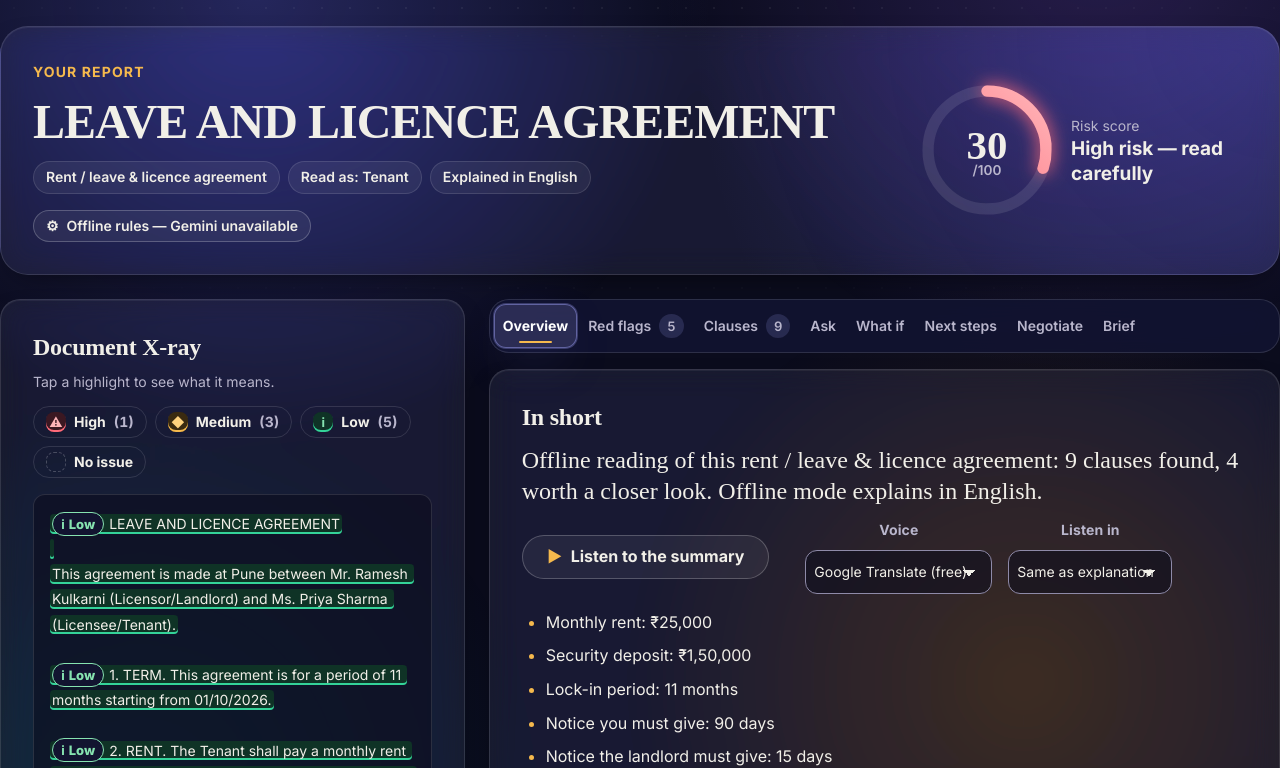
Test: ReportWorkspace › puts the checklist, lawyer questions and the printable brief in the Brief tab
The image size is (1280, 768).
Click the tab "Brief" at (1119, 326), box [1094,304,1144,348]
(page scrolled)
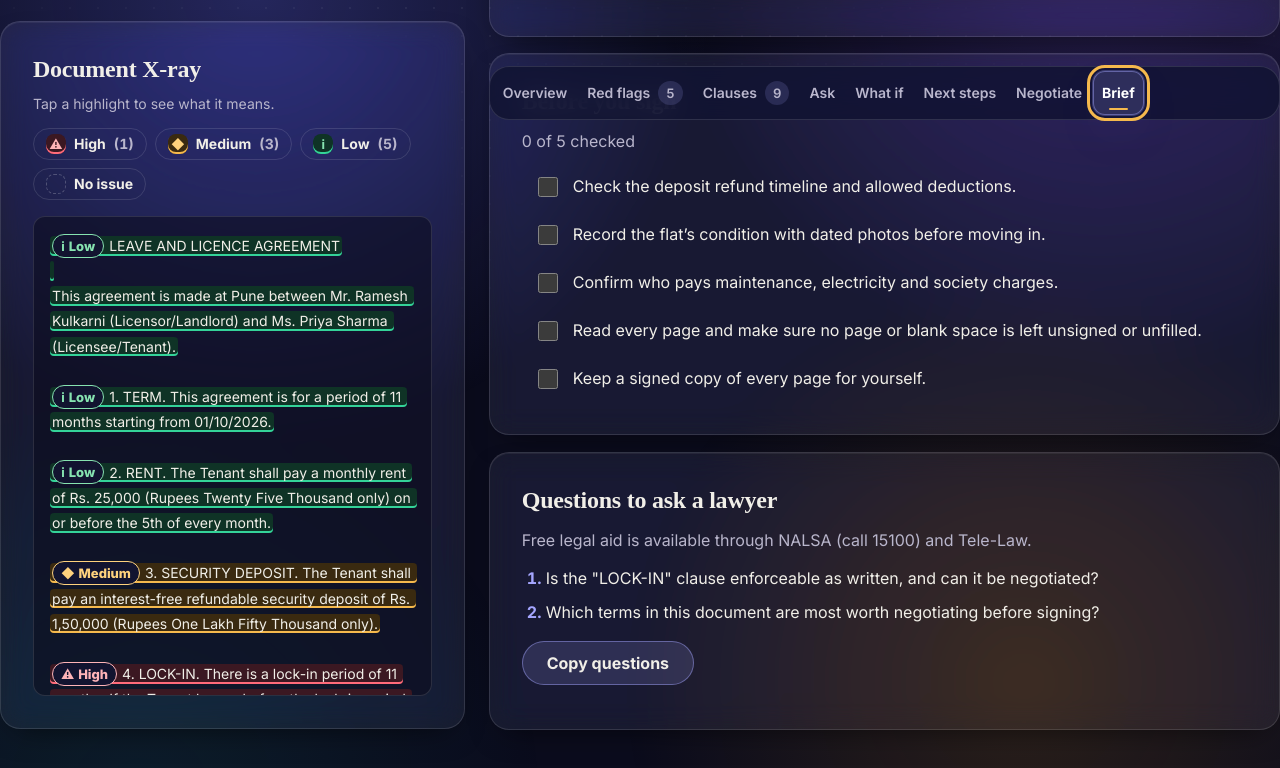
Now the heading "Before you sign" is shown, box [522,88,676,114]
Now the heading "Questions to ask a lawyer" is shown, box [522,487,777,513]
